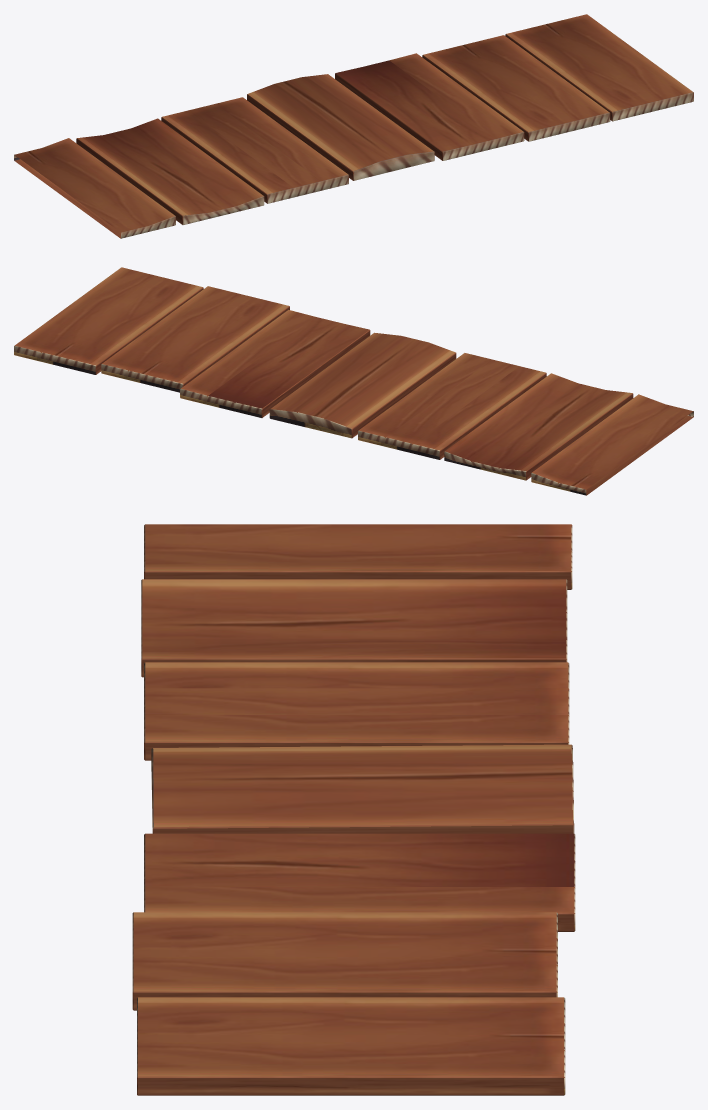
File: platform_quarter.fbx
3 renders of one model, top to bottom at view 1: azimuth 30°, elevation 25°; view 2: azimuth 150°, elevation 25°; view 3: azimuth 270°, elevation 25°, orthographic. The views are drawn at different scales.
Parts seen in each view (by area): view 1: quarterplatform; view 2: quarterplatform; view 3: quarterplatform.
Part boxes in pixels (<box>): quarterplatform: <box>14,14,693,238</box>; quarterplatform: <box>14,267,693,495</box>; quarterplatform: <box>132,524,575,1095</box>.
Bounding box in the file's own units: 229 × 5.45 × 77.
1 material, 1 textured.
